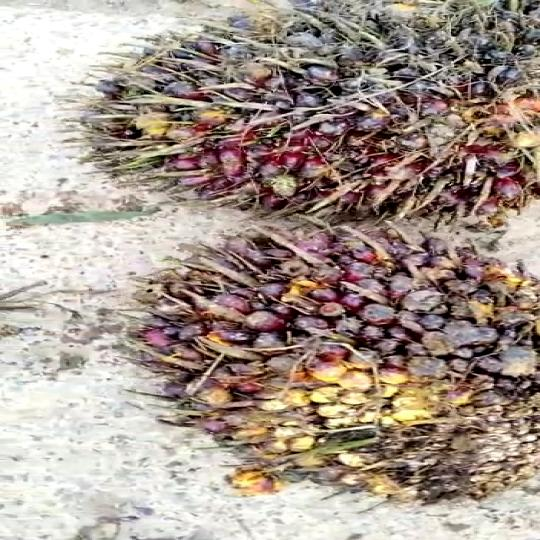kurang masak: (101, 225, 540, 498), (58, 0, 539, 240)
